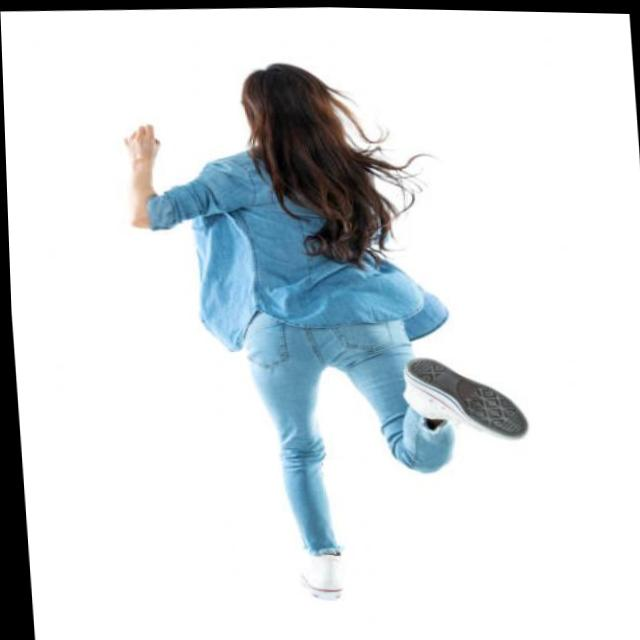no helmet: (221, 50, 354, 157)
